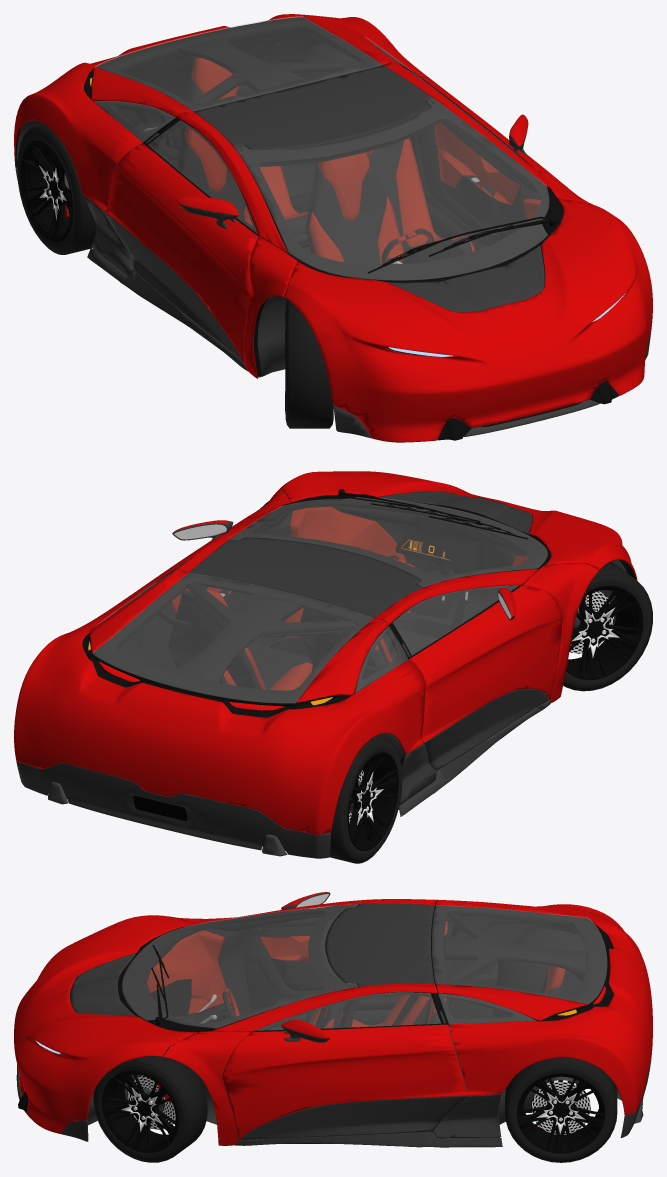
The model's file is car-coupe.glb.
The picture shows the model from 3 angles, top to bottom: view 1: azimuth 30°, elevation 25°; view 2: azimuth 150°, elevation 25°; view 3: azimuth 270°, elevation 25°; orthographic projection. The views are drawn at different scales.
Visible parts, largest first — view 1: BodyHood, BodyWindshield, BodyRearwindow, BodyDoorRColor1, BodyRearPanelsColor1, BodyRoofPanel, BodyWindshieldGasket, InteriorSeatsColor1, InteriorSeatsColor2, BodyPillars, InteriorPillar, InteriorRearHatch (+21 smaller); view 2: BodyRearPanelsColor1, BodyRearwindow, BodyWindshield, BodyDoorRColor1, BodyPanelsColor2, BodyRoofPanel, BodyHood, InteriorRearHatch, BodyPillars, InteriorPillar, BodyWindshieldGasket, InteriorDashMid (+22 smaller); view 3: BodyRearPanelsColor1, BodyWindshield, BodyDoorLColor1, BodyHood, BodyRearwindow, BodyRoofPanel, BodyPillars, BodyWindshieldGasket, BodyDoorLColor2, BodyPanelsColor2, WheelFrontL, InteriorRearHatch (+25 smaller).
Part boxes in pixels (x1,y1,x2,y2): BodyHood: (283, 198, 652, 442); BodyWindshield: (234, 98, 549, 280); BodyRearwindow: (95, 16, 382, 110); BodyDoorRColor1: (104, 143, 257, 363); BodyRearPanelsColor1: (14, 14, 428, 210); BodyRoofPanel: (193, 65, 432, 150); BodyWindshieldGasket: (234, 99, 563, 282); InteriorSeatsColor1: (185, 57, 475, 264); InteriorSeatsColor2: (180, 78, 472, 264); BodyPillars: (176, 61, 598, 378); InteriorPillar: (158, 37, 434, 168); InteriorRearHatch: (93, 17, 383, 117); BodyRearPanelsColor1: (14, 569, 425, 834); BodyRearwindow: (92, 573, 373, 703); BodyWindshield: (229, 497, 547, 587); BodyDoorRColor1: (409, 585, 562, 742); BodyPanelsColor2: (16, 700, 550, 858); BodyRoofPanel: (189, 537, 422, 617); BodyHood: (279, 471, 637, 580); InteriorRearHatch: (93, 573, 386, 707); BodyPillars: (175, 489, 599, 702); InteriorPillar: (174, 574, 417, 682); BodyWindshieldGasket: (230, 497, 550, 587); InteriorDashMid: (331, 503, 528, 622); BodyRearPanelsColor1: (436, 899, 652, 1115); BodyWindshield: (122, 904, 357, 1028); BodyDoorLColor1: (222, 1024, 467, 1139); BodyHood: (14, 915, 196, 1133); BodyRearwindow: (432, 905, 606, 1003); BodyRoofPanel: (326, 903, 434, 986); BodyPillars: (163, 899, 437, 1145); BodyWindshieldGasket: (118, 905, 357, 1032); BodyDoorLColor2: (240, 1096, 467, 1140); BodyPanelsColor2: (16, 1045, 652, 1147); WheelFrontL: (93, 1054, 207, 1162); InteriorRearHatch: (431, 905, 606, 1020).
Bounding box in the file's own units: 2.54 × 1.15 × 4.36.
Materials: 23 (2 with a texture image).
